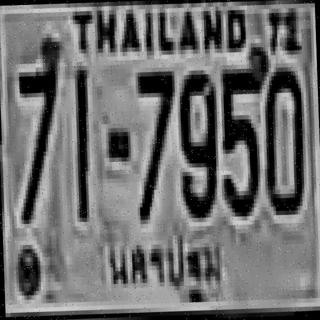N00: (261, 63, 305, 211)
N01: (71, 68, 91, 220)
N05: (217, 64, 264, 212)
N07: (14, 39, 64, 222), (133, 67, 177, 220)
N09: (176, 68, 217, 212)
P28: (104, 226, 224, 305)
